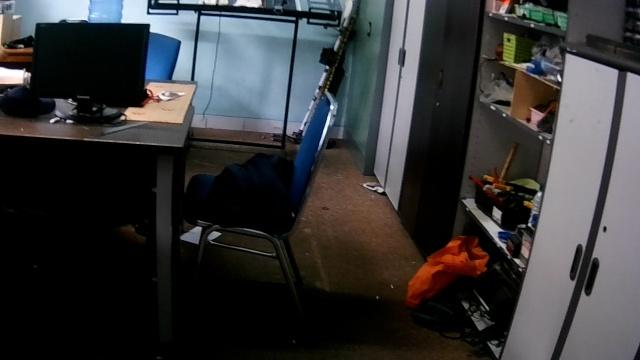AIO PC-Monitor-TV: (28, 20, 150, 126)
Kursi: (179, 90, 338, 256)
Rak: (443, 0, 568, 358)
